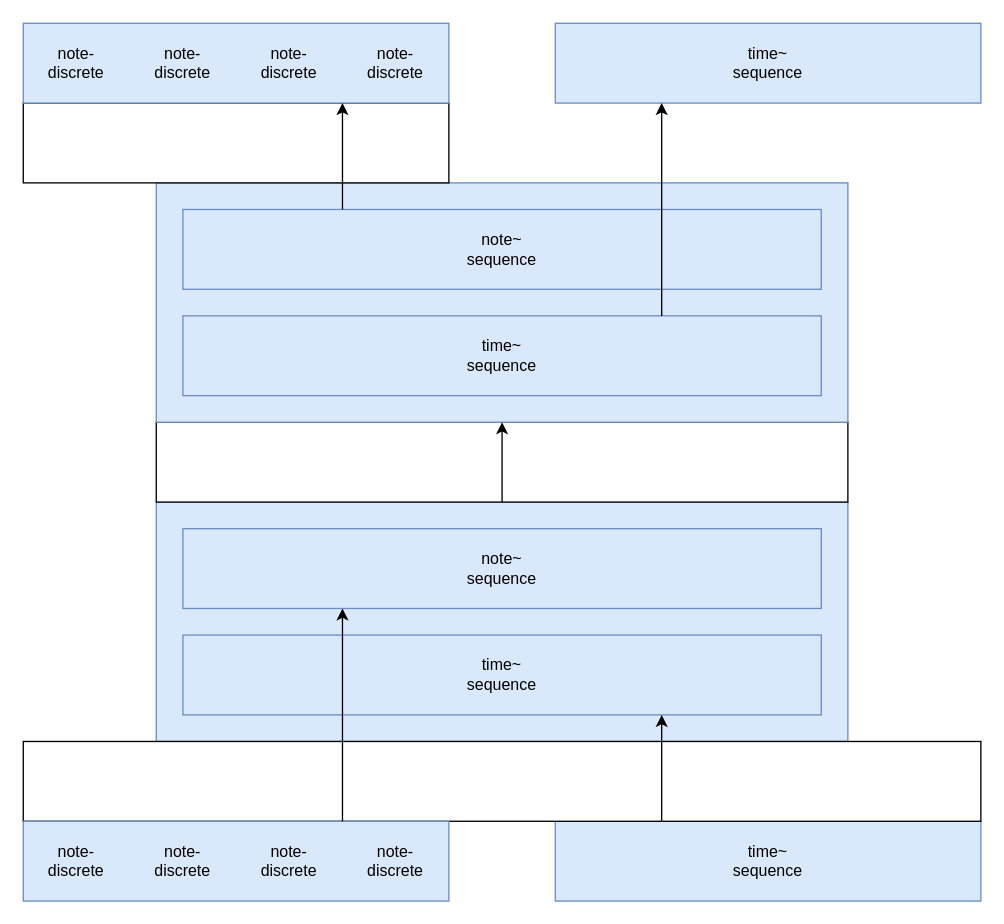
The diagram is 1004 pixels wide and 924 high, and some of its shapes have lost their labels. Here are the shapes that lost their labels. From the top down, the box of each, then its label:
(22, 102, 449, 183): many2one
(155, 421, 848, 502): many2many
(22, 740, 981, 821): repeat&concat
